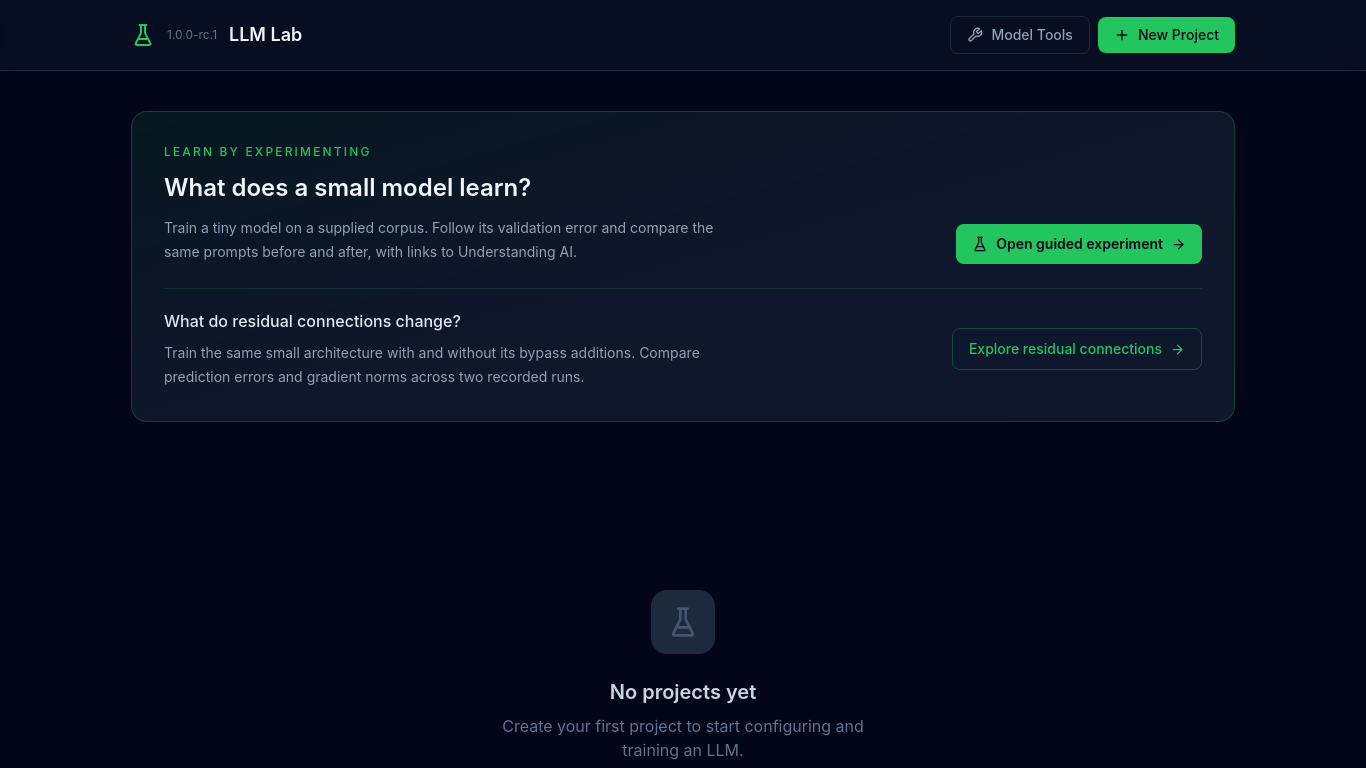
Scenario: Guided learning experience › offers the experiment on the dashboard without creating a project or starting training
Click the button "Open guided experiment" at (1079, 244), box [956,224,1202,264]
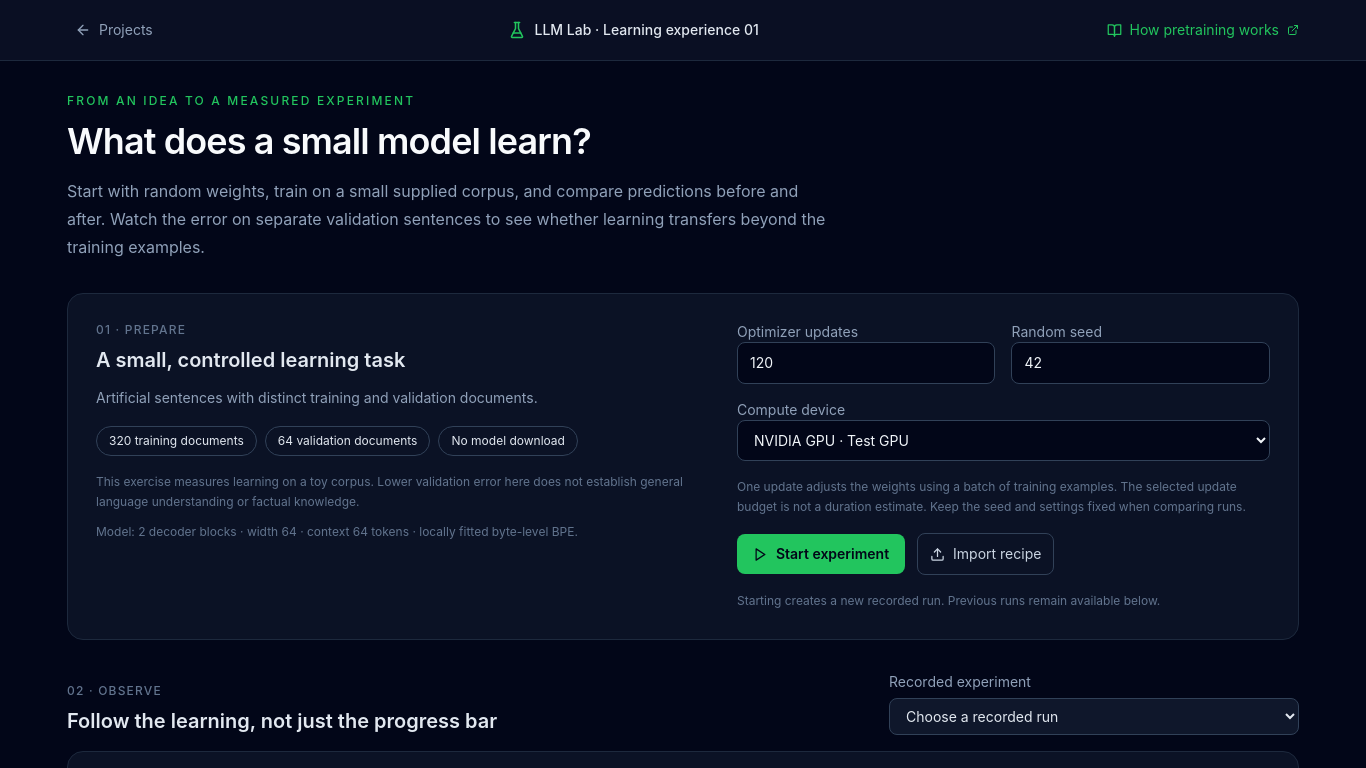
Click the button "Projects" at (114, 30), box [67,16,161,44]
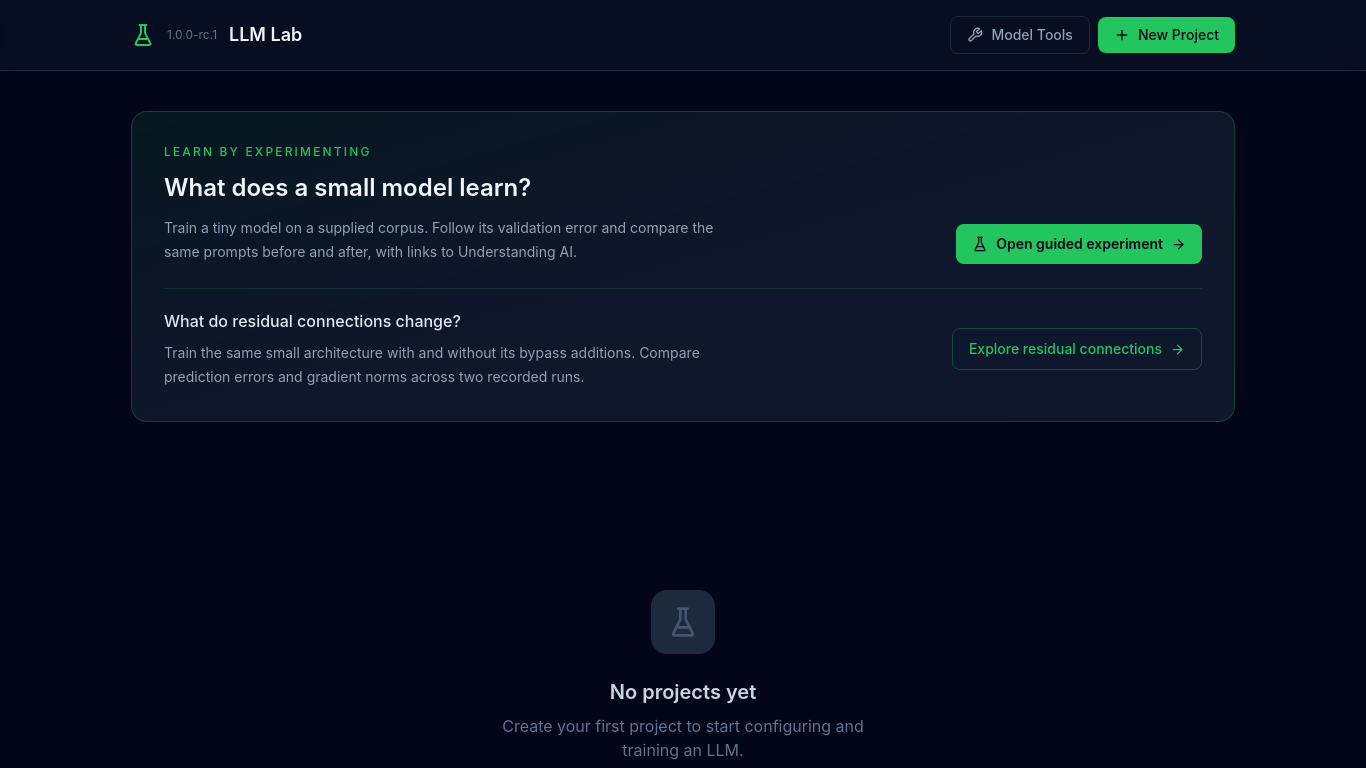
Expected: the button "Open guided experiment" is shown, [956,224,1202,264]
